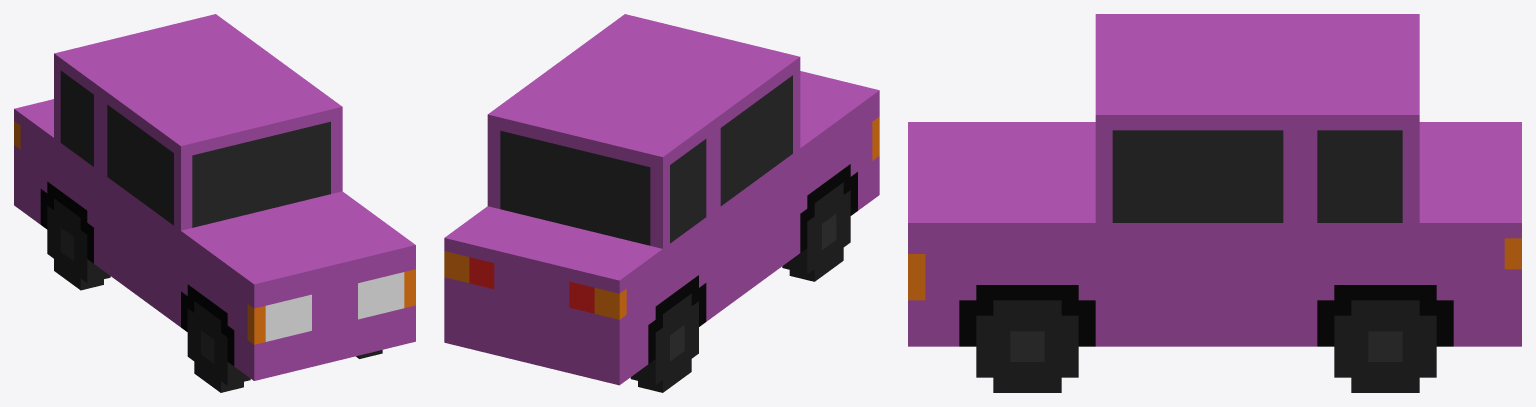
Rendered from kit-voxel-standard-purple.glb.
The picture shows the model from 3 angles, left to right: view 1: azimuth 30°, elevation 25°; view 2: azimuth 150°, elevation 25°; view 3: azimuth 270°, elevation 25°; orthographic projection. The views are drawn at different scales.
Parts seen in each view (by area): view 1: geometry_1; view 2: geometry_1; view 3: geometry_1.
Boxes of the visible parts, x1,y1,x2,y2 form: geometry_1: (14, 14, 415, 392); geometry_1: (444, 14, 879, 392); geometry_1: (908, 14, 1521, 392).
Size of the model in its own units: 1.4 by 1.8 by 3.6.
1 material, 1 textured.
